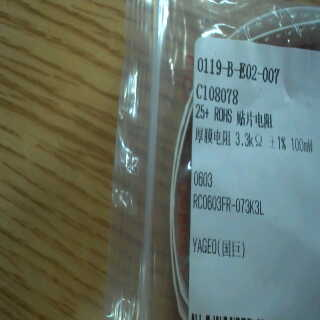3.3kO: (233, 127, 262, 154)
